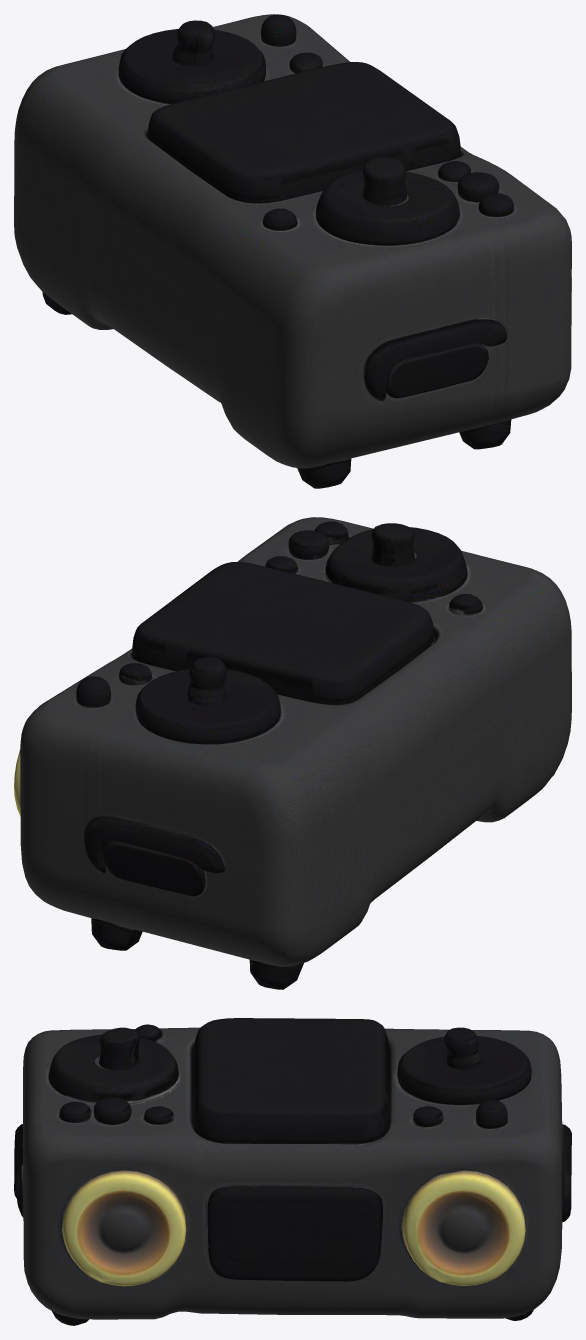
File: env_nest_booth_dj_01.glb
The picture shows the model from 3 angles, top to bottom: view 1: azimuth 30°, elevation 25°; view 2: azimuth 150°, elevation 25°; view 3: azimuth 270°, elevation 25°; orthographic projection. The views are drawn at different scales.
Parts seen in each view (by area): view 1: env_nest_booth_dj_01; view 2: env_nest_booth_dj_01; view 3: env_nest_booth_dj_01.
Boxes of the visible parts, <box> form: env_nest_booth_dj_01: <box>14,14,571,488</box>; env_nest_booth_dj_01: <box>14,517,571,989</box>; env_nest_booth_dj_01: <box>14,1018,571,1325</box>.
Size of the model in its own units: 2.03 by 1.8 by 3.52.
Materials: 1 (1 with a texture image).
